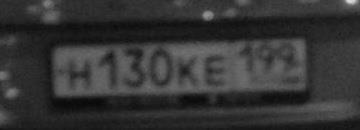license-plateSW: (48, 37, 311, 98)
